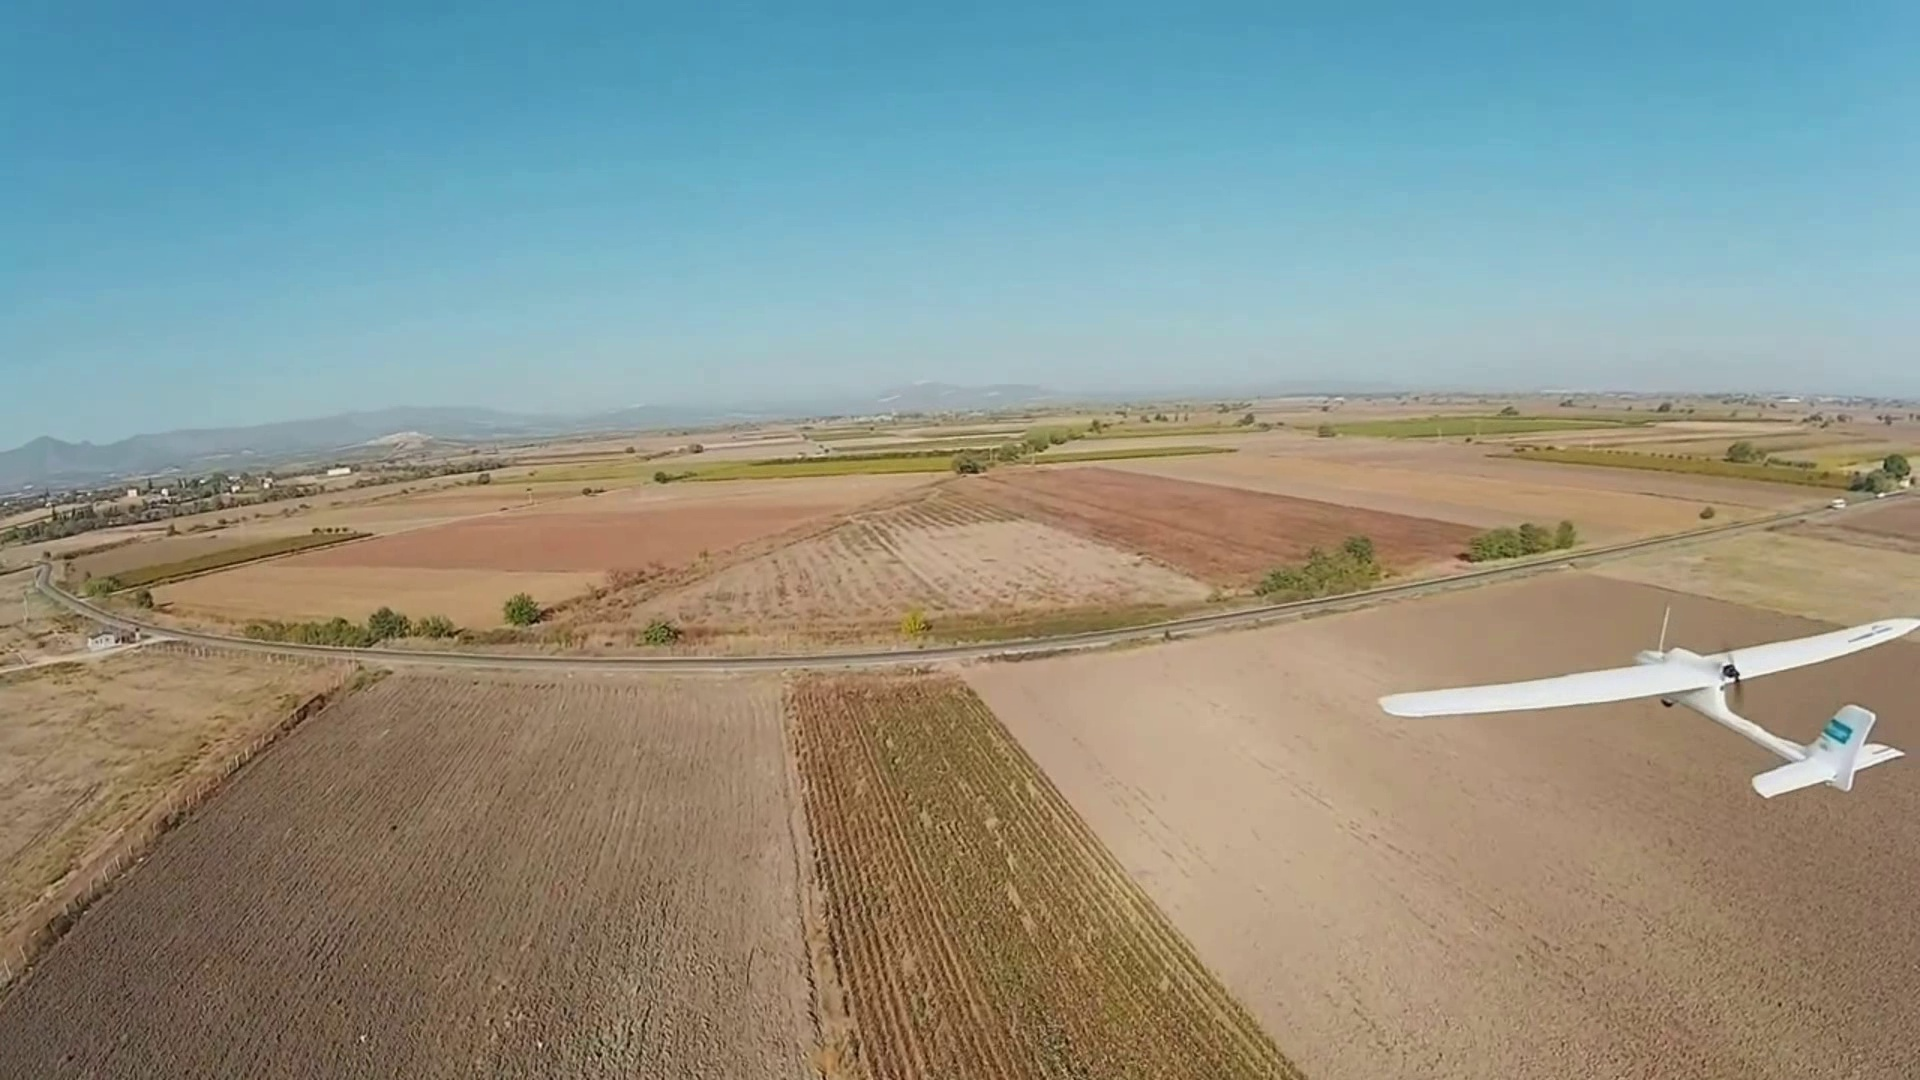airplane: (1380, 611, 1918, 802)
